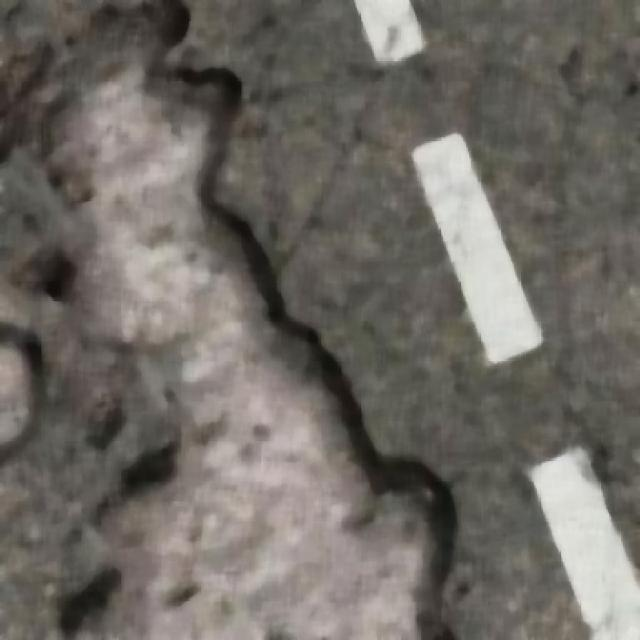Pothole: (33, 27, 442, 638)
